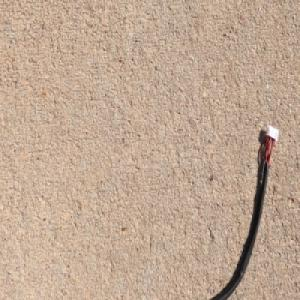Wire: (208, 121, 280, 300)
